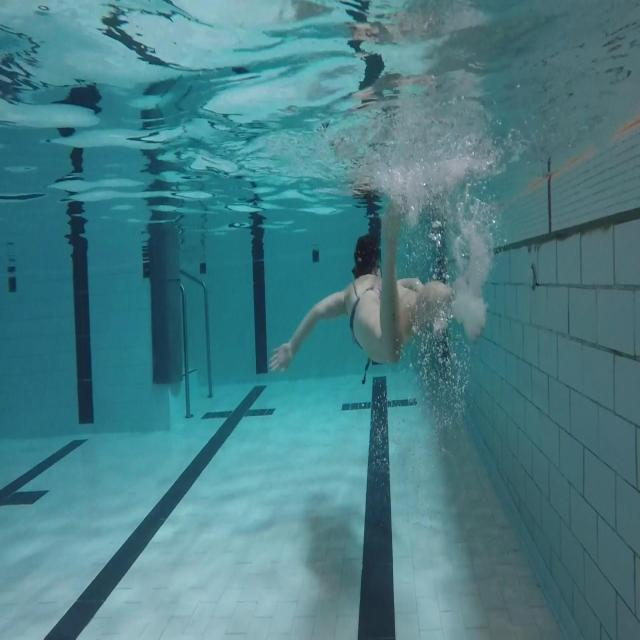human: (268, 191, 456, 383)
